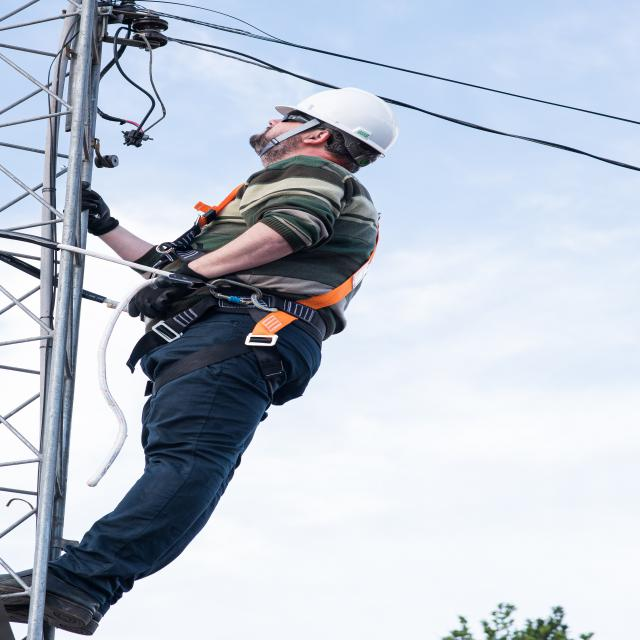botas: (0, 562, 105, 629)
capacete: (270, 82, 400, 159)
luva: (126, 265, 215, 316), (63, 178, 127, 238)
